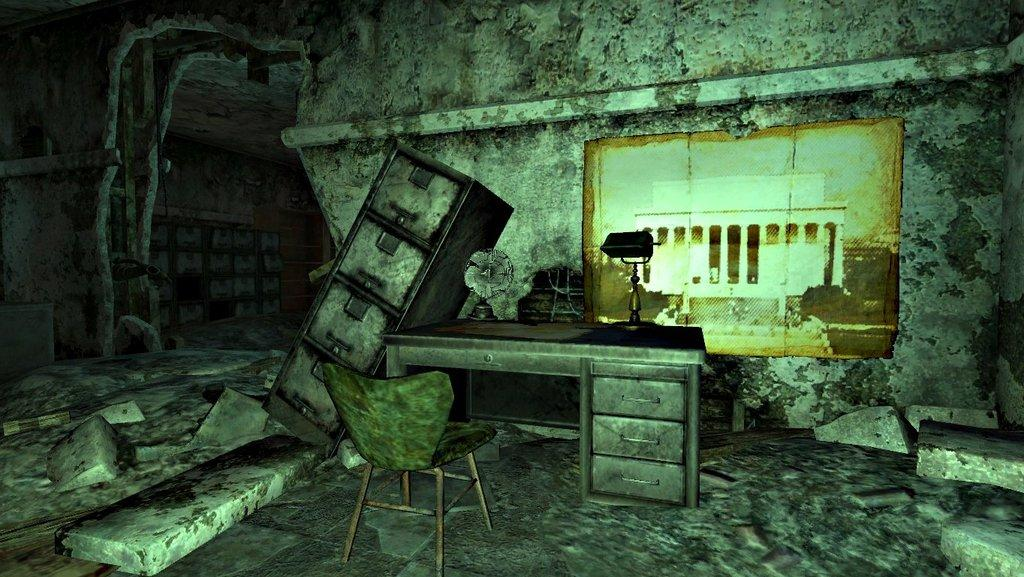Chair: (316, 340, 501, 560)
